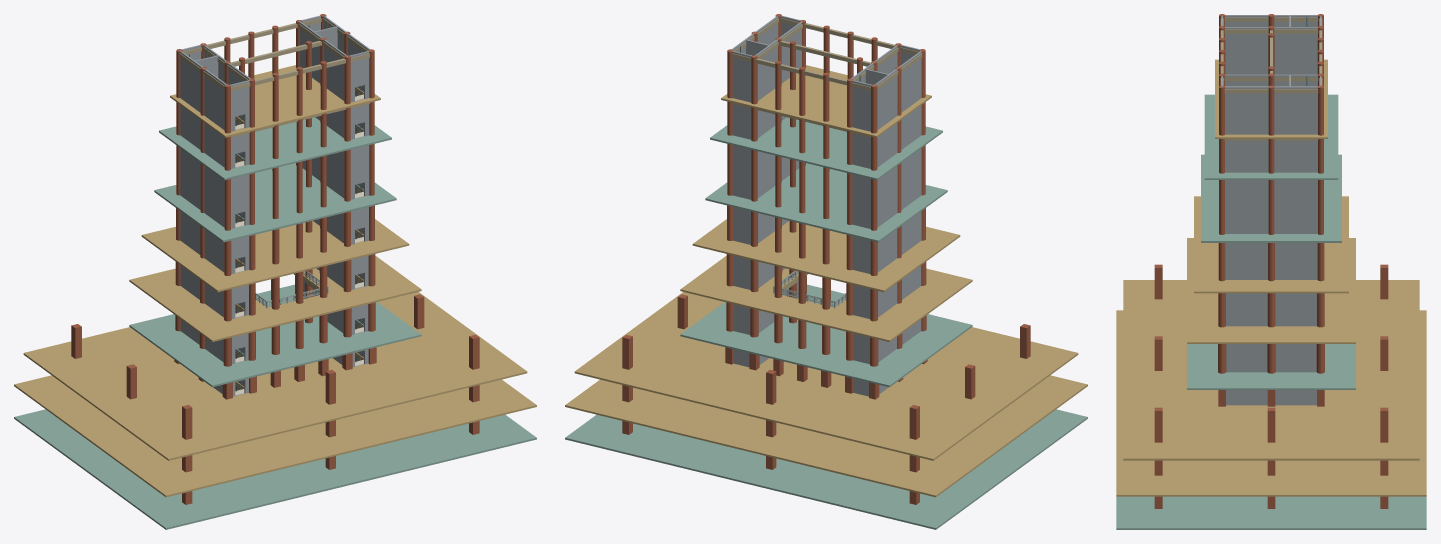
Rendered from guanque-interior.glb.
3 views of the same model, side by side, from view 1: azimuth 30°, elevation 25°; view 2: azimuth 150°, elevation 25°; view 3: azimuth 270°, elevation 25° (orthographic). The views are drawn at different scales.
Parts seen in each view (by area): view 1: 台基三层 / 楼板 · 推定标高, 台基二层 / 楼板 · 推定标高, 台基一层 / 楼板 · 有标高依据, 楼身一层 / 楼板 · 有标高依据, 楼身二层 / 楼板 · 推定标高, 楼身三层 / 楼板 · 推定标高, 楼身六层 / 剪力墙 · 位置尺寸示意, 楼身四层 / 楼板 · 有标高依据, 楼身四层 / 剪力墙 · 位置尺寸示意, 楼身五层 / 楼板 · 有标高依据, 楼身六层 / 内柱 · 布点示意, 楼身六层 / 楼板 · 推定标高 (+11 smaller); view 2: 台基三层 / 楼板 · 推定标高, 台基二层 / 楼板 · 推定标高, 台基一层 / 楼板 · 有标高依据, 楼身一层 / 楼板 · 有标高依据, 楼身二层 / 楼板 · 推定标高, 楼身六层 / 剪力墙 · 位置尺寸示意, 楼身三层 / 楼板 · 推定标高, 楼身四层 / 楼板 · 有标高依据, 楼身四层 / 剪力墙 · 位置尺寸示意, 楼身五层 / 楼板 · 有标高依据, 楼身六层 / 内柱 · 布点示意, 楼身六层 / 楼板 · 推定标高 (+12 smaller); view 3: 台基三层 / 楼板 · 推定标高, 台基二层 / 楼板 · 推定标高, 台基一层 / 楼板 · 有标高依据, 楼身六层 / 剪力墙 · 位置尺寸示意, 楼身二层 / 楼板 · 推定标高, 楼身一层 / 楼板 · 有标高依据, 楼身四层 / 剪力墙 · 位置尺寸示意, 楼身三层 / 楼板 · 推定标高, 楼身四层 / 楼板 · 有标高依据, 楼身三层 / 剪力墙 · 位置尺寸示意, 楼身五层 / 楼板 · 有标高依据, 楼身五层 / 剪力墙 · 位置尺寸示意 (+13 smaller).
Boxes of the visible parts, x1,y1,x2,y2 form: 台基三层 / 楼板 · 推定标高: (23,292,527,460); 台基二层 / 楼板 · 推定标高: (14,375,536,497); 台基一层 / 楼板 · 有标高依据: (14,409,536,529); 楼身一层 / 楼板 · 有标高依据: (129,284,421,387); 楼身二层 / 楼板 · 推定标高: (129,256,421,341); 楼身三层 / 楼板 · 推定标高: (141,219,409,292); 楼身六层 / 剪力墙 · 位置尺寸示意: (179,15,370,131); 楼身四层 / 楼板 · 有标高依据: (154,163,396,242); 楼身四层 / 剪力墙 · 位置尺寸示意: (180,129,369,228); 楼身五层 / 楼板 · 有标高依据: (159,117,391,180); 楼身六层 / 内柱 · 布点示意: (176,14,374,133); 楼身六层 / 楼板 · 推定标高: (170,65,380,137); 台基三层 / 楼板 · 推定标高: (574,292,1078,460); 台基二层 / 楼板 · 推定标高: (565,375,1087,497); 台基一层 / 楼板 · 有标高依据: (565,409,1087,529); 楼身一层 / 楼板 · 有标高依据: (680,284,972,387); 楼身二层 / 楼板 · 推定标高: (680,256,972,341); 楼身六层 / 剪力墙 · 位置尺寸示意: (731,15,921,131); 楼身三层 / 楼板 · 推定标高: (692,219,960,292); 楼身四层 / 楼板 · 有标高依据: (705,163,947,242); 楼身四层 / 剪力墙 · 位置尺寸示意: (732,145,921,228); 楼身五层 / 楼板 · 有标高依据: (710,117,942,180); 楼身六层 / 内柱 · 布点示意: (727,14,925,133); 楼身六层 / 楼板 · 推定标高: (721,65,931,137); 台基三层 / 楼板 · 推定标高: (1123,280,1419,460); 台基二层 / 楼板 · 推定标高: (1116,310,1426,496); 台基一层 / 楼板 · 有标高依据: (1116,496,1426,529); 楼身六层 / 剪力墙 · 位置尺寸示意: (1221,15,1321,134); 楼身二层 / 楼板 · 推定标高: (1187,238,1355,343); 楼身一层 / 楼板 · 有标高依据: (1187,344,1355,389); 楼身四层 / 剪力墙 · 位置尺寸示意: (1225,180,1317,233); 楼身三层 / 楼板 · 推定标高: (1194,196,1348,293); 楼身四层 / 楼板 · 有标高依据: (1201,154,1341,242); 楼身三层 / 剪力墙 · 位置尺寸示意: (1225,243,1317,279); 楼身五层 / 楼板 · 有标高依据: (1204,94,1338,179); 楼身五层 / 剪力墙 · 位置尺寸示意: (1225,140,1317,172).
Size of the model in its own units: 62 by 60.48 by 44.
